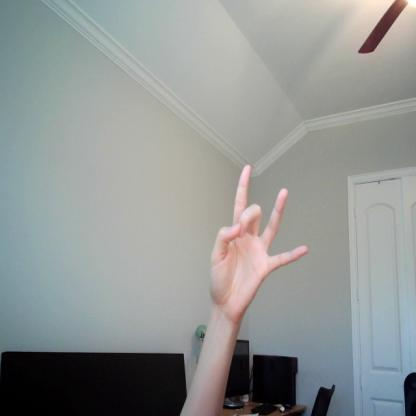eight: (200, 161, 310, 316)
